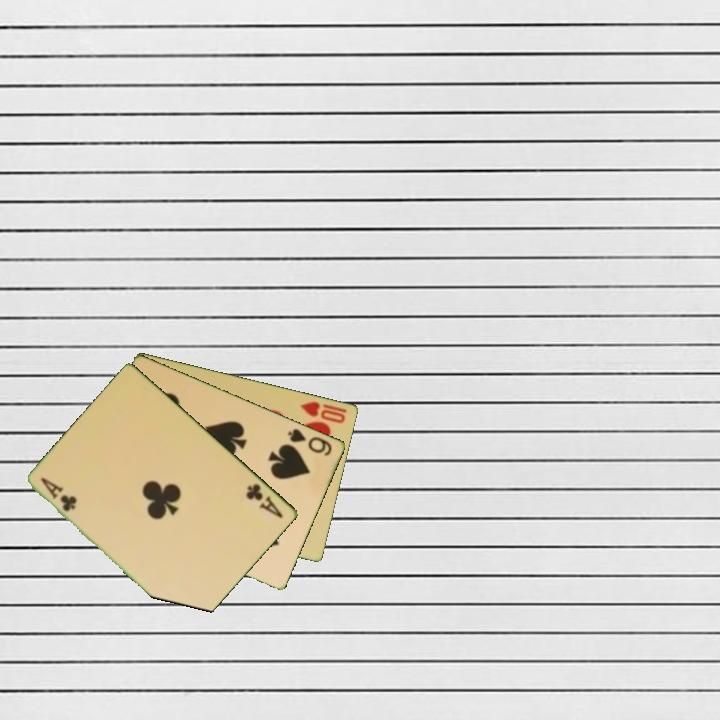10h: (297, 398, 350, 426)
6s: (284, 425, 335, 459)
Ac: (37, 473, 81, 515), (243, 480, 286, 521)
